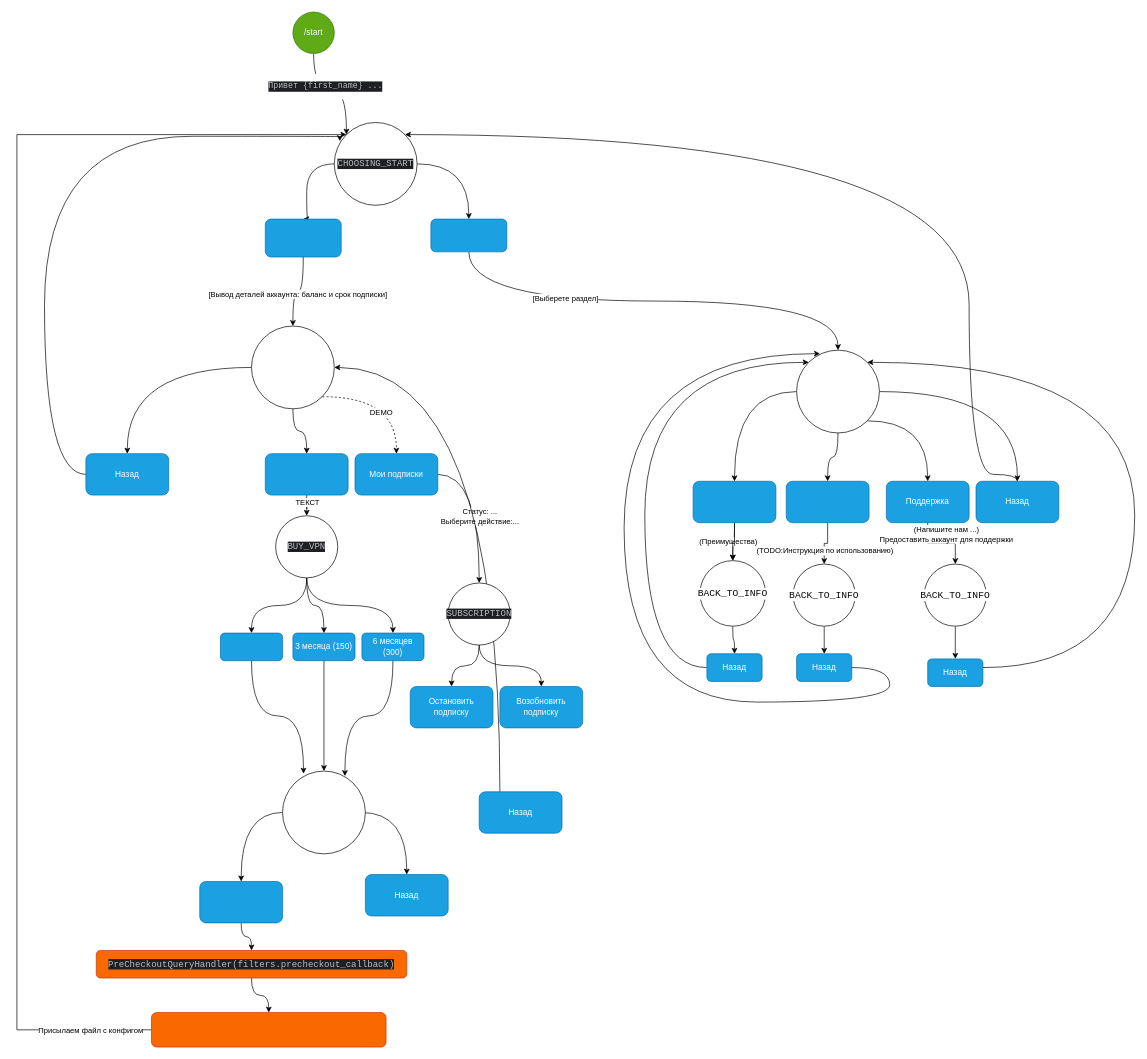
The diagram is 1147 pixels wide and 1059 high, and some of its shapes have lost their labels. The box of each missing label's shape, as (x1, y1, x2, y2) in pixels:
1 месяц (50): (220, 632, 283, 661)
CHOOSING_ACCOUNT: (251, 325, 334, 409)
CHOOSING_INFO: (796, 349, 879, 433)
CHOOSING_PRICE: (282, 770, 365, 854)
MessageHandler(filters.SUCCESSFUL_PAYMENT: (151, 1012, 386, 1047)
Инструкции: (786, 481, 869, 523)
Инфо: (430, 218, 507, 252)
Личный кабинет: (265, 218, 341, 257)
Оплатить Х ⭐: (199, 881, 283, 923)
Преимущества подписка: (692, 481, 776, 523)
Приообрсти VPN: (265, 453, 348, 495)
